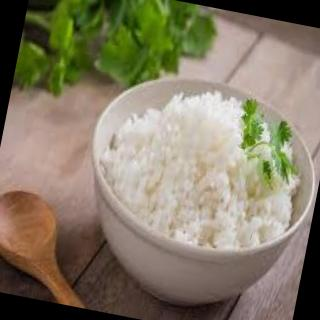Nasi: (87, 68, 315, 261)
